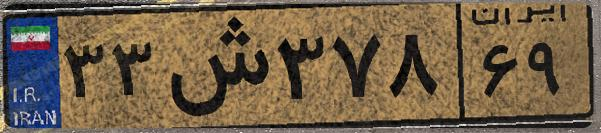3: (270, 28, 330, 110), (57, 26, 110, 100), (110, 28, 158, 98)
6: (475, 38, 525, 113)
7: (330, 28, 385, 110)
8: (385, 28, 445, 110)
9: (525, 38, 570, 115)
ش: (158, 12, 270, 120)
